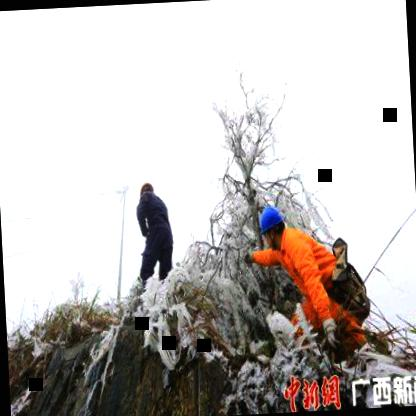helmet: (256, 201, 288, 249), (138, 176, 156, 204)
